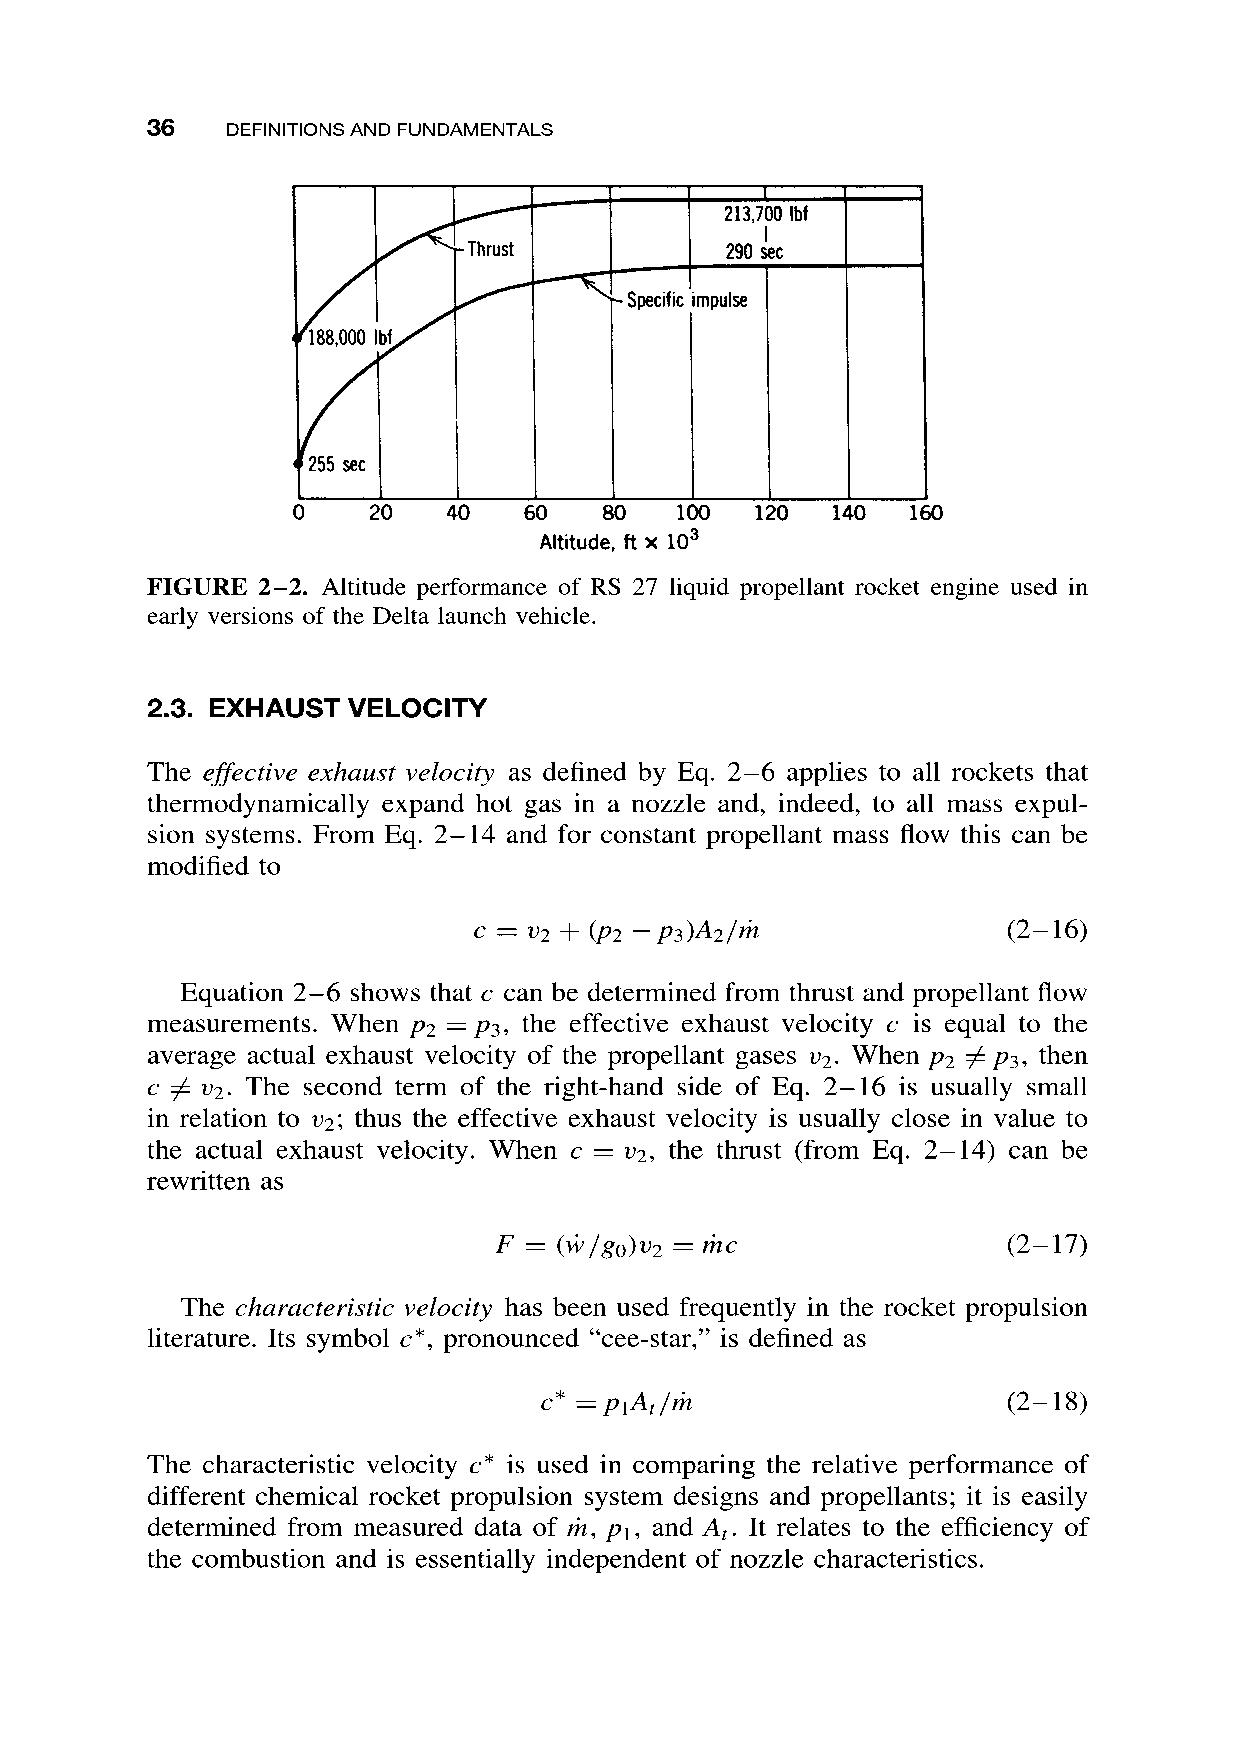chapter: (141, 688, 486, 725)
content: (141, 753, 1094, 1574), (138, 160, 1091, 632)
content_chapter: (216, 115, 556, 142)
content_pagenumber: (141, 107, 178, 148)
